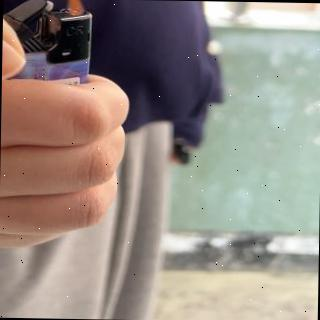fire: (56, 0, 84, 16)
